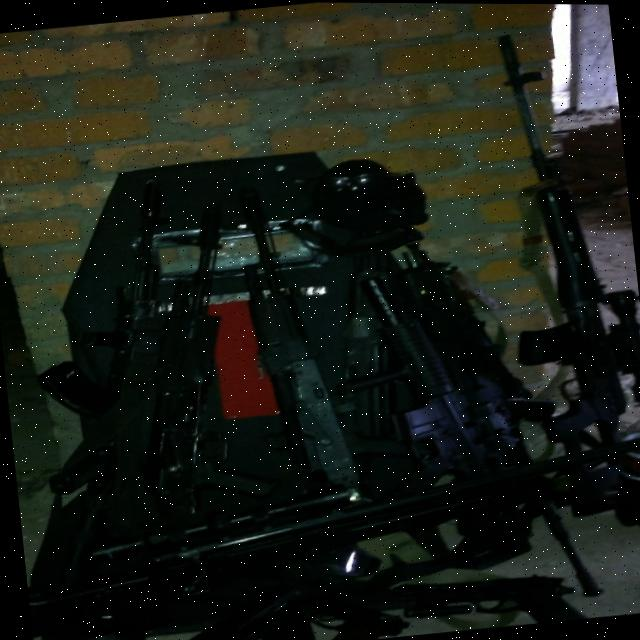firearm: (16, 423, 640, 640), (12, 174, 210, 587), (479, 19, 640, 521), (318, 261, 534, 583), (232, 169, 418, 510), (116, 196, 286, 528)
pistol: (389, 562, 589, 637), (166, 576, 311, 640), (298, 585, 411, 640)
